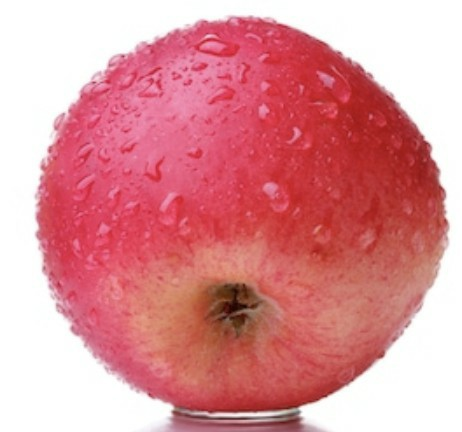fresh_apple: (33, 13, 449, 401)
